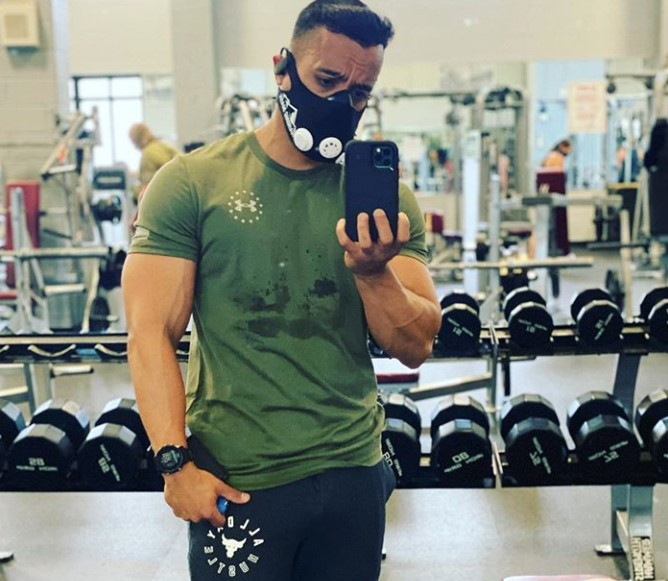face_with_mask: (273, 5, 392, 170)
